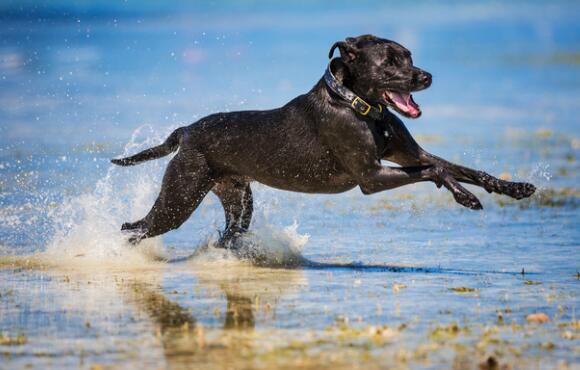dog: (119, 25, 548, 267)
